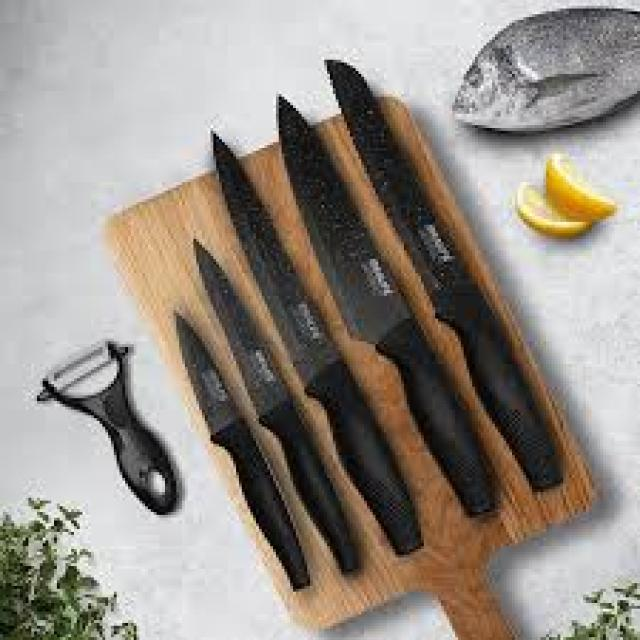Knife: (182, 29, 580, 598)
